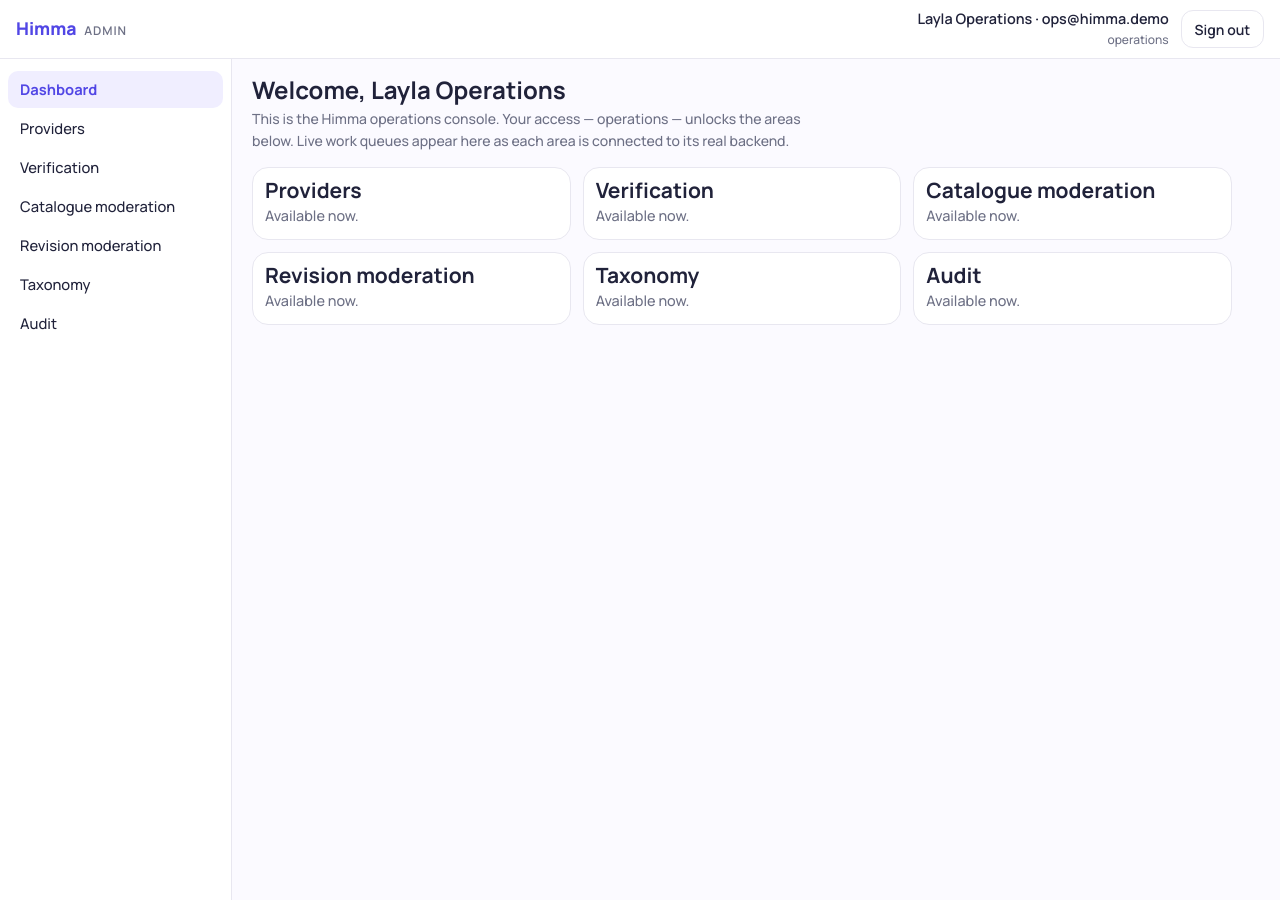
Test: capability-aware navigation and guards (task §16–§18, §30) › sign out from the shell lands on the signed-out surface
Expected: the heading "Welcome, Layla Operations" is shown, [252,73,566,106]
Click the button "Sign out" at (1222, 29), box [1181,10,1264,48]
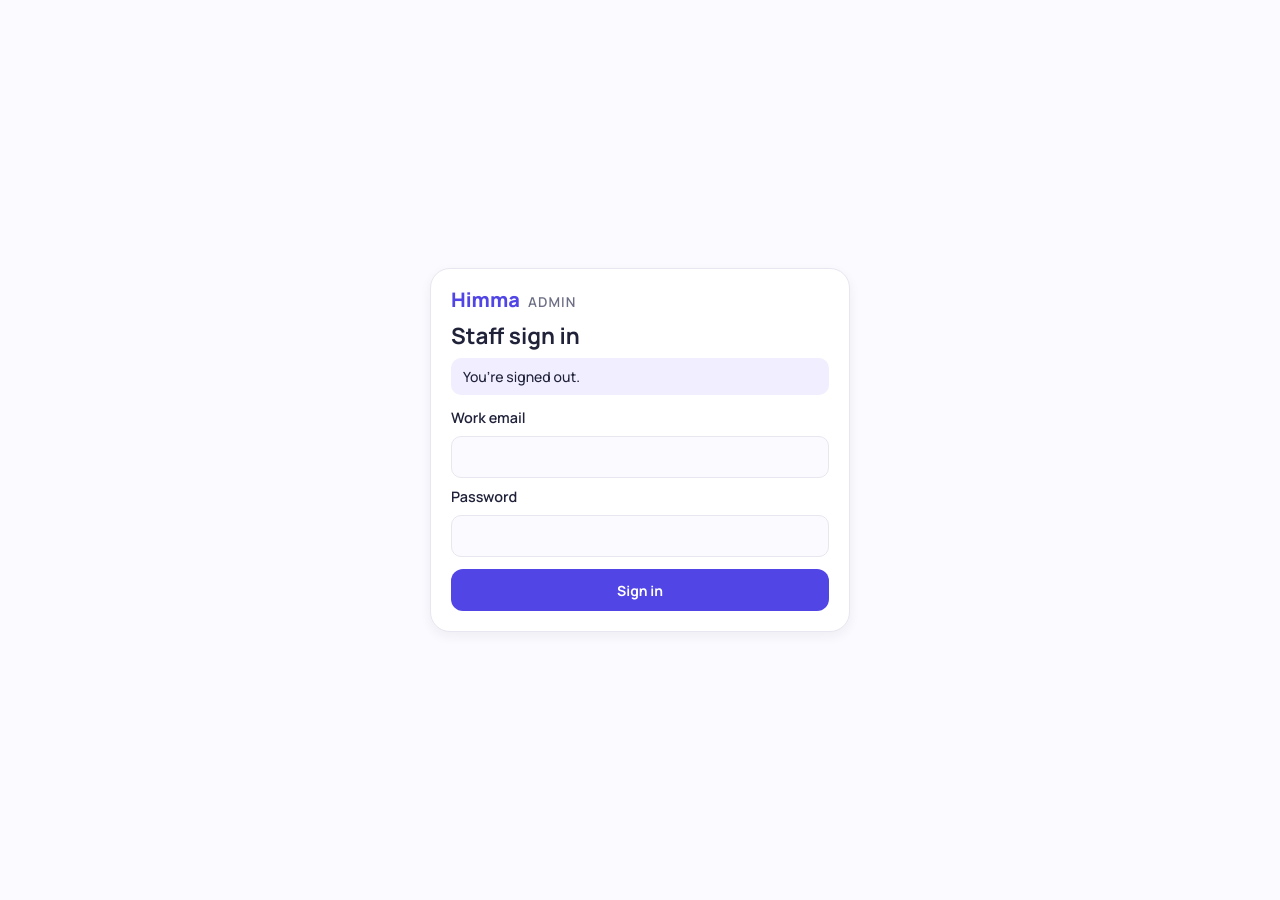
Expected: the heading "Staff sign in" is shown, [451,320,580,351]
Expected: the text "You’re signed out." is shown, [451,358,829,395]
